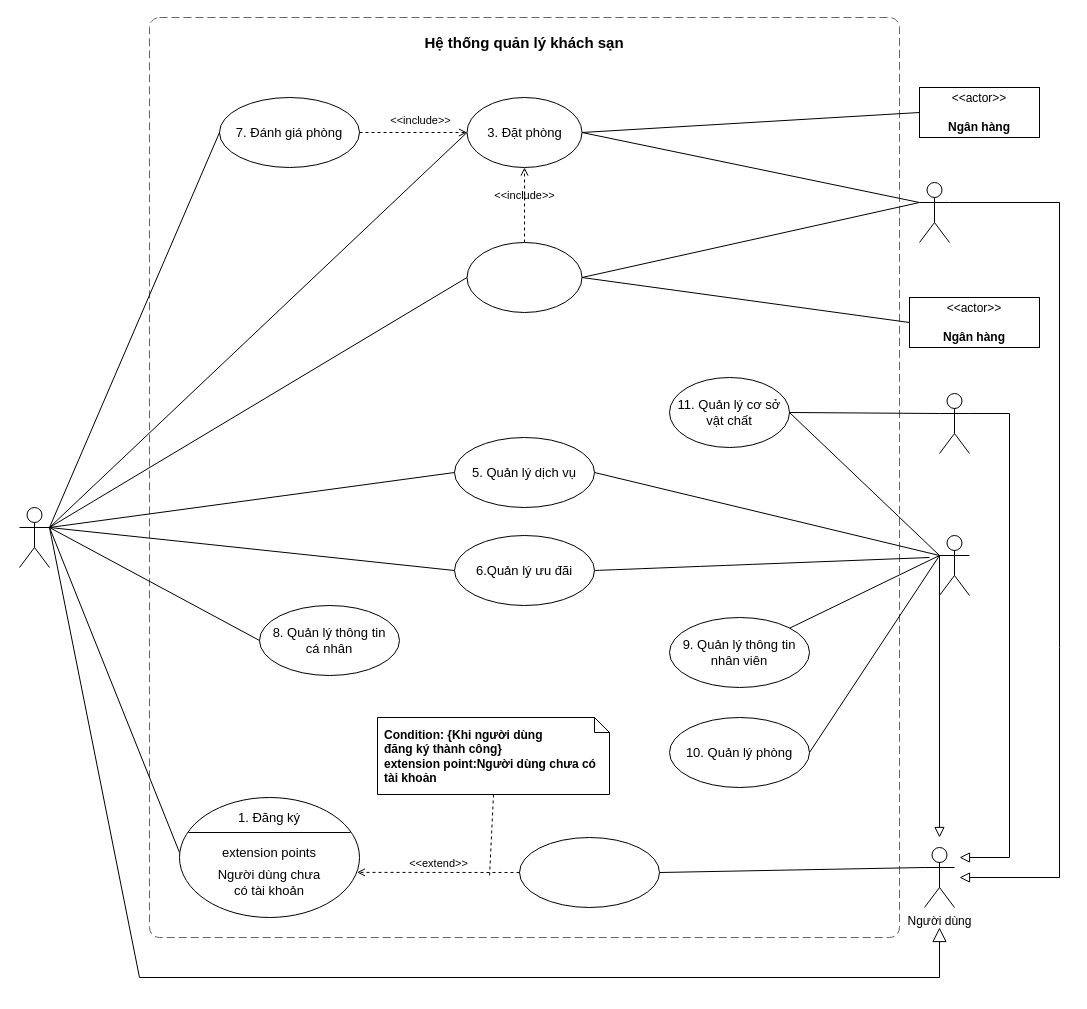
This 1087x1009 diagram has some shape labels left out. The centre of each missing label's shape, as x and y in pixels:
"2. Đăng nhập" belongs at (589,872).
"4. Quản lý thủ tục lưu trú" belongs at (524,277).
"Khách" belongs at (34,537).
"Lễ Tân" belongs at (934,212).
"Nhân viên" belongs at (954,423).
"Quản lý" belongs at (954,565).
